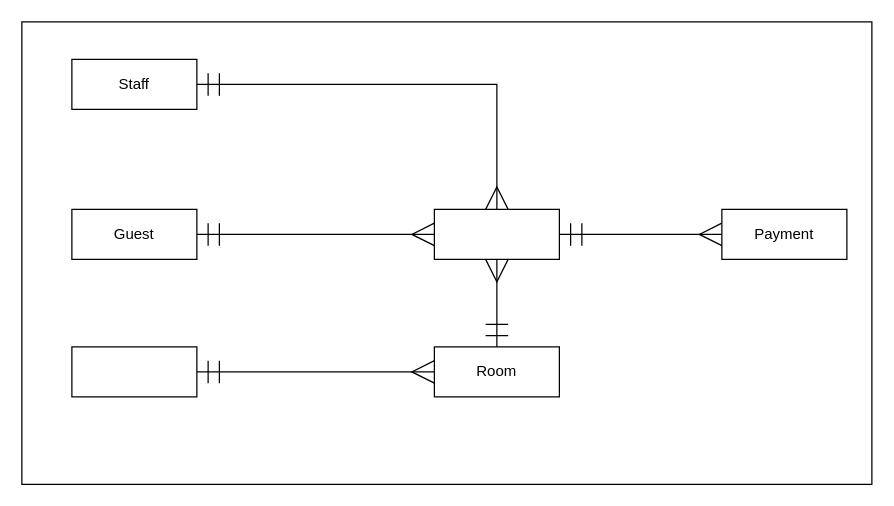
This 894x506 diagram has some shape labels left out. The box of each missing label's shape, as (x1, y1, x2, y2) in pixels:
Reservation: (433, 208, 559, 259)
RoomType: (71, 346, 197, 397)
